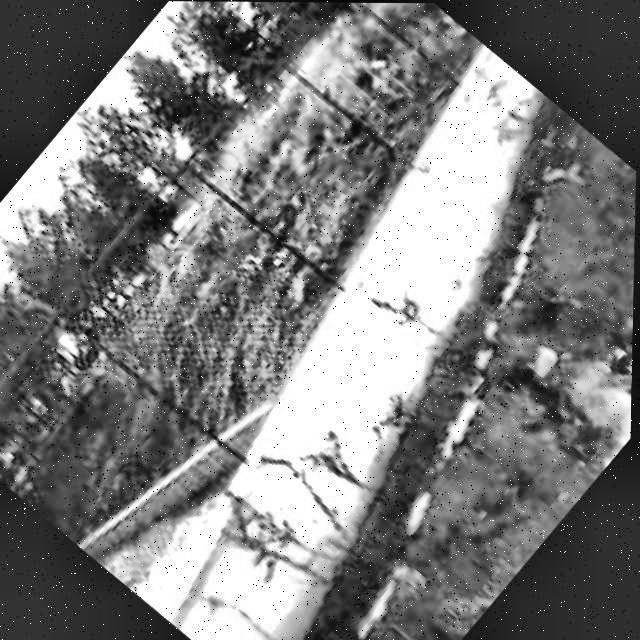Fire: (543, 292, 635, 464)
